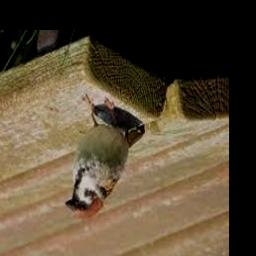Sparrow: (65, 96, 145, 218)
